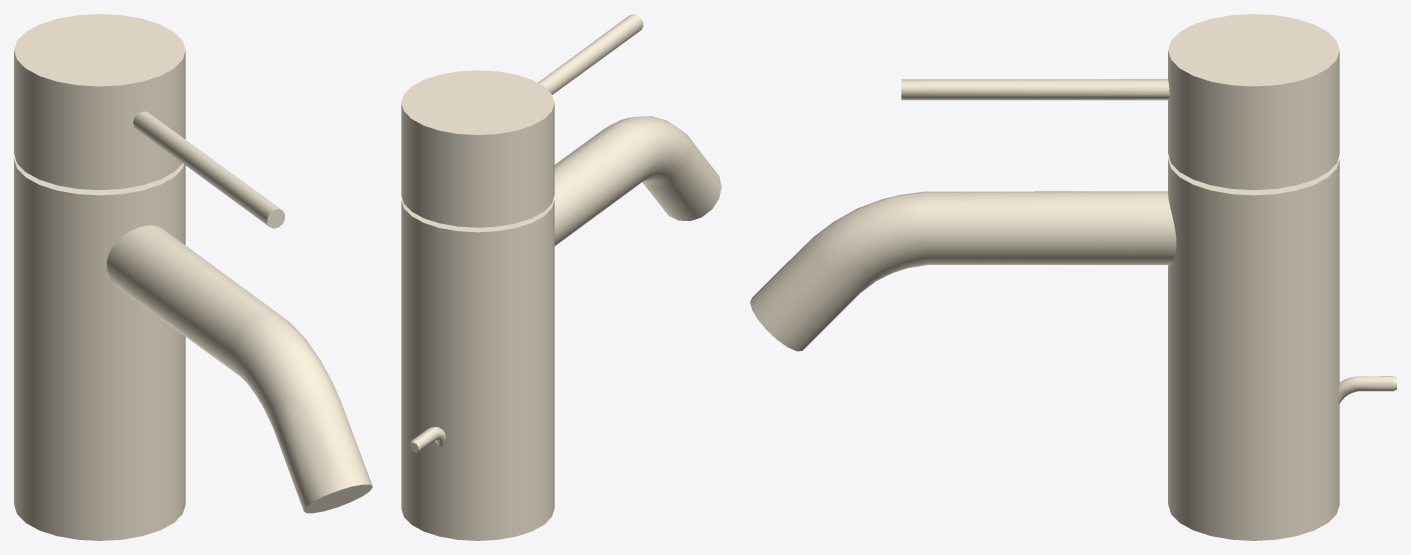
3 renders of one model, left to right at view 1: azimuth 30°, elevation 25°; view 2: azimuth 150°, elevation 25°; view 3: azimuth 270°, elevation 25°, orthographic. The views are drawn at different scales.
Visible parts, largest first — view 1: L_86392001_dea6_443b_9beb_83b72645bcee_I4, L_3a77a278_0259_498d_9377_3ce67aea6ccc_I3, L_eba97abb_d69d_467f_9fb6_ce883ce695e5_I6, L_2b7b6d09_a3fb_4fdd_82bf_157c725244be_I1; view 2: L_86392001_dea6_443b_9beb_83b72645bcee_I4, L_3a77a278_0259_498d_9377_3ce67aea6ccc_I3, L_eba97abb_d69d_467f_9fb6_ce883ce695e5_I6, L_2b7b6d09_a3fb_4fdd_82bf_157c725244be_I1, L_2e84a2f5_9ee6_4637_9123_485a44de7cbb_I2; view 3: L_86392001_dea6_443b_9beb_83b72645bcee_I4, L_eba97abb_d69d_467f_9fb6_ce883ce695e5_I6, L_3a77a278_0259_498d_9377_3ce67aea6ccc_I3, L_2b7b6d09_a3fb_4fdd_82bf_157c725244be_I1, L_2e84a2f5_9ee6_4637_9123_485a44de7cbb_I2.
Part boxes in pixels (<box>): L_86392001_dea6_443b_9beb_83b72645bcee_I4: <box>14,157,185,540</box>; L_3a77a278_0259_498d_9377_3ce67aea6ccc_I3: <box>14,14,185,190</box>; L_eba97abb_d69d_467f_9fb6_ce883ce695e5_I6: <box>106,225,372,513</box>; L_2b7b6d09_a3fb_4fdd_82bf_157c725244be_I1: <box>133,111,284,228</box>; L_86392001_dea6_443b_9beb_83b72645bcee_I4: <box>401,198,554,540</box>; L_3a77a278_0259_498d_9377_3ce67aea6ccc_I3: <box>401,70,554,227</box>; L_eba97abb_d69d_467f_9fb6_ce883ce695e5_I6: <box>554,116,721,245</box>; L_2b7b6d09_a3fb_4fdd_82bf_157c725244be_I1: <box>538,14,643,94</box>; L_2e84a2f5_9ee6_4637_9123_485a44de7cbb_I2: <box>409,427,445,452</box>; L_86392001_dea6_443b_9beb_83b72645bcee_I4: <box>1168,157,1339,540</box>; L_eba97abb_d69d_467f_9fb6_ce883ce695e5_I6: <box>750,191,1176,351</box>; L_3a77a278_0259_498d_9377_3ce67aea6ccc_I3: <box>1168,14,1339,190</box>; L_2b7b6d09_a3fb_4fdd_82bf_157c725244be_I1: <box>901,79,1169,100</box>; L_2e84a2f5_9ee6_4637_9123_485a44de7cbb_I2: <box>1338,376,1396,403</box>.
Bounding box in the file's own units: 0.045 × 0.1315 × 0.1696.
